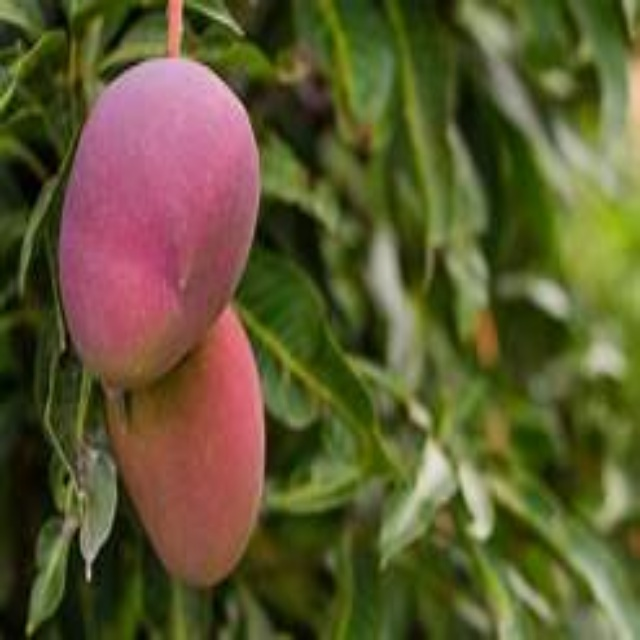mango: (59, 60, 261, 393), (102, 308, 268, 586)
